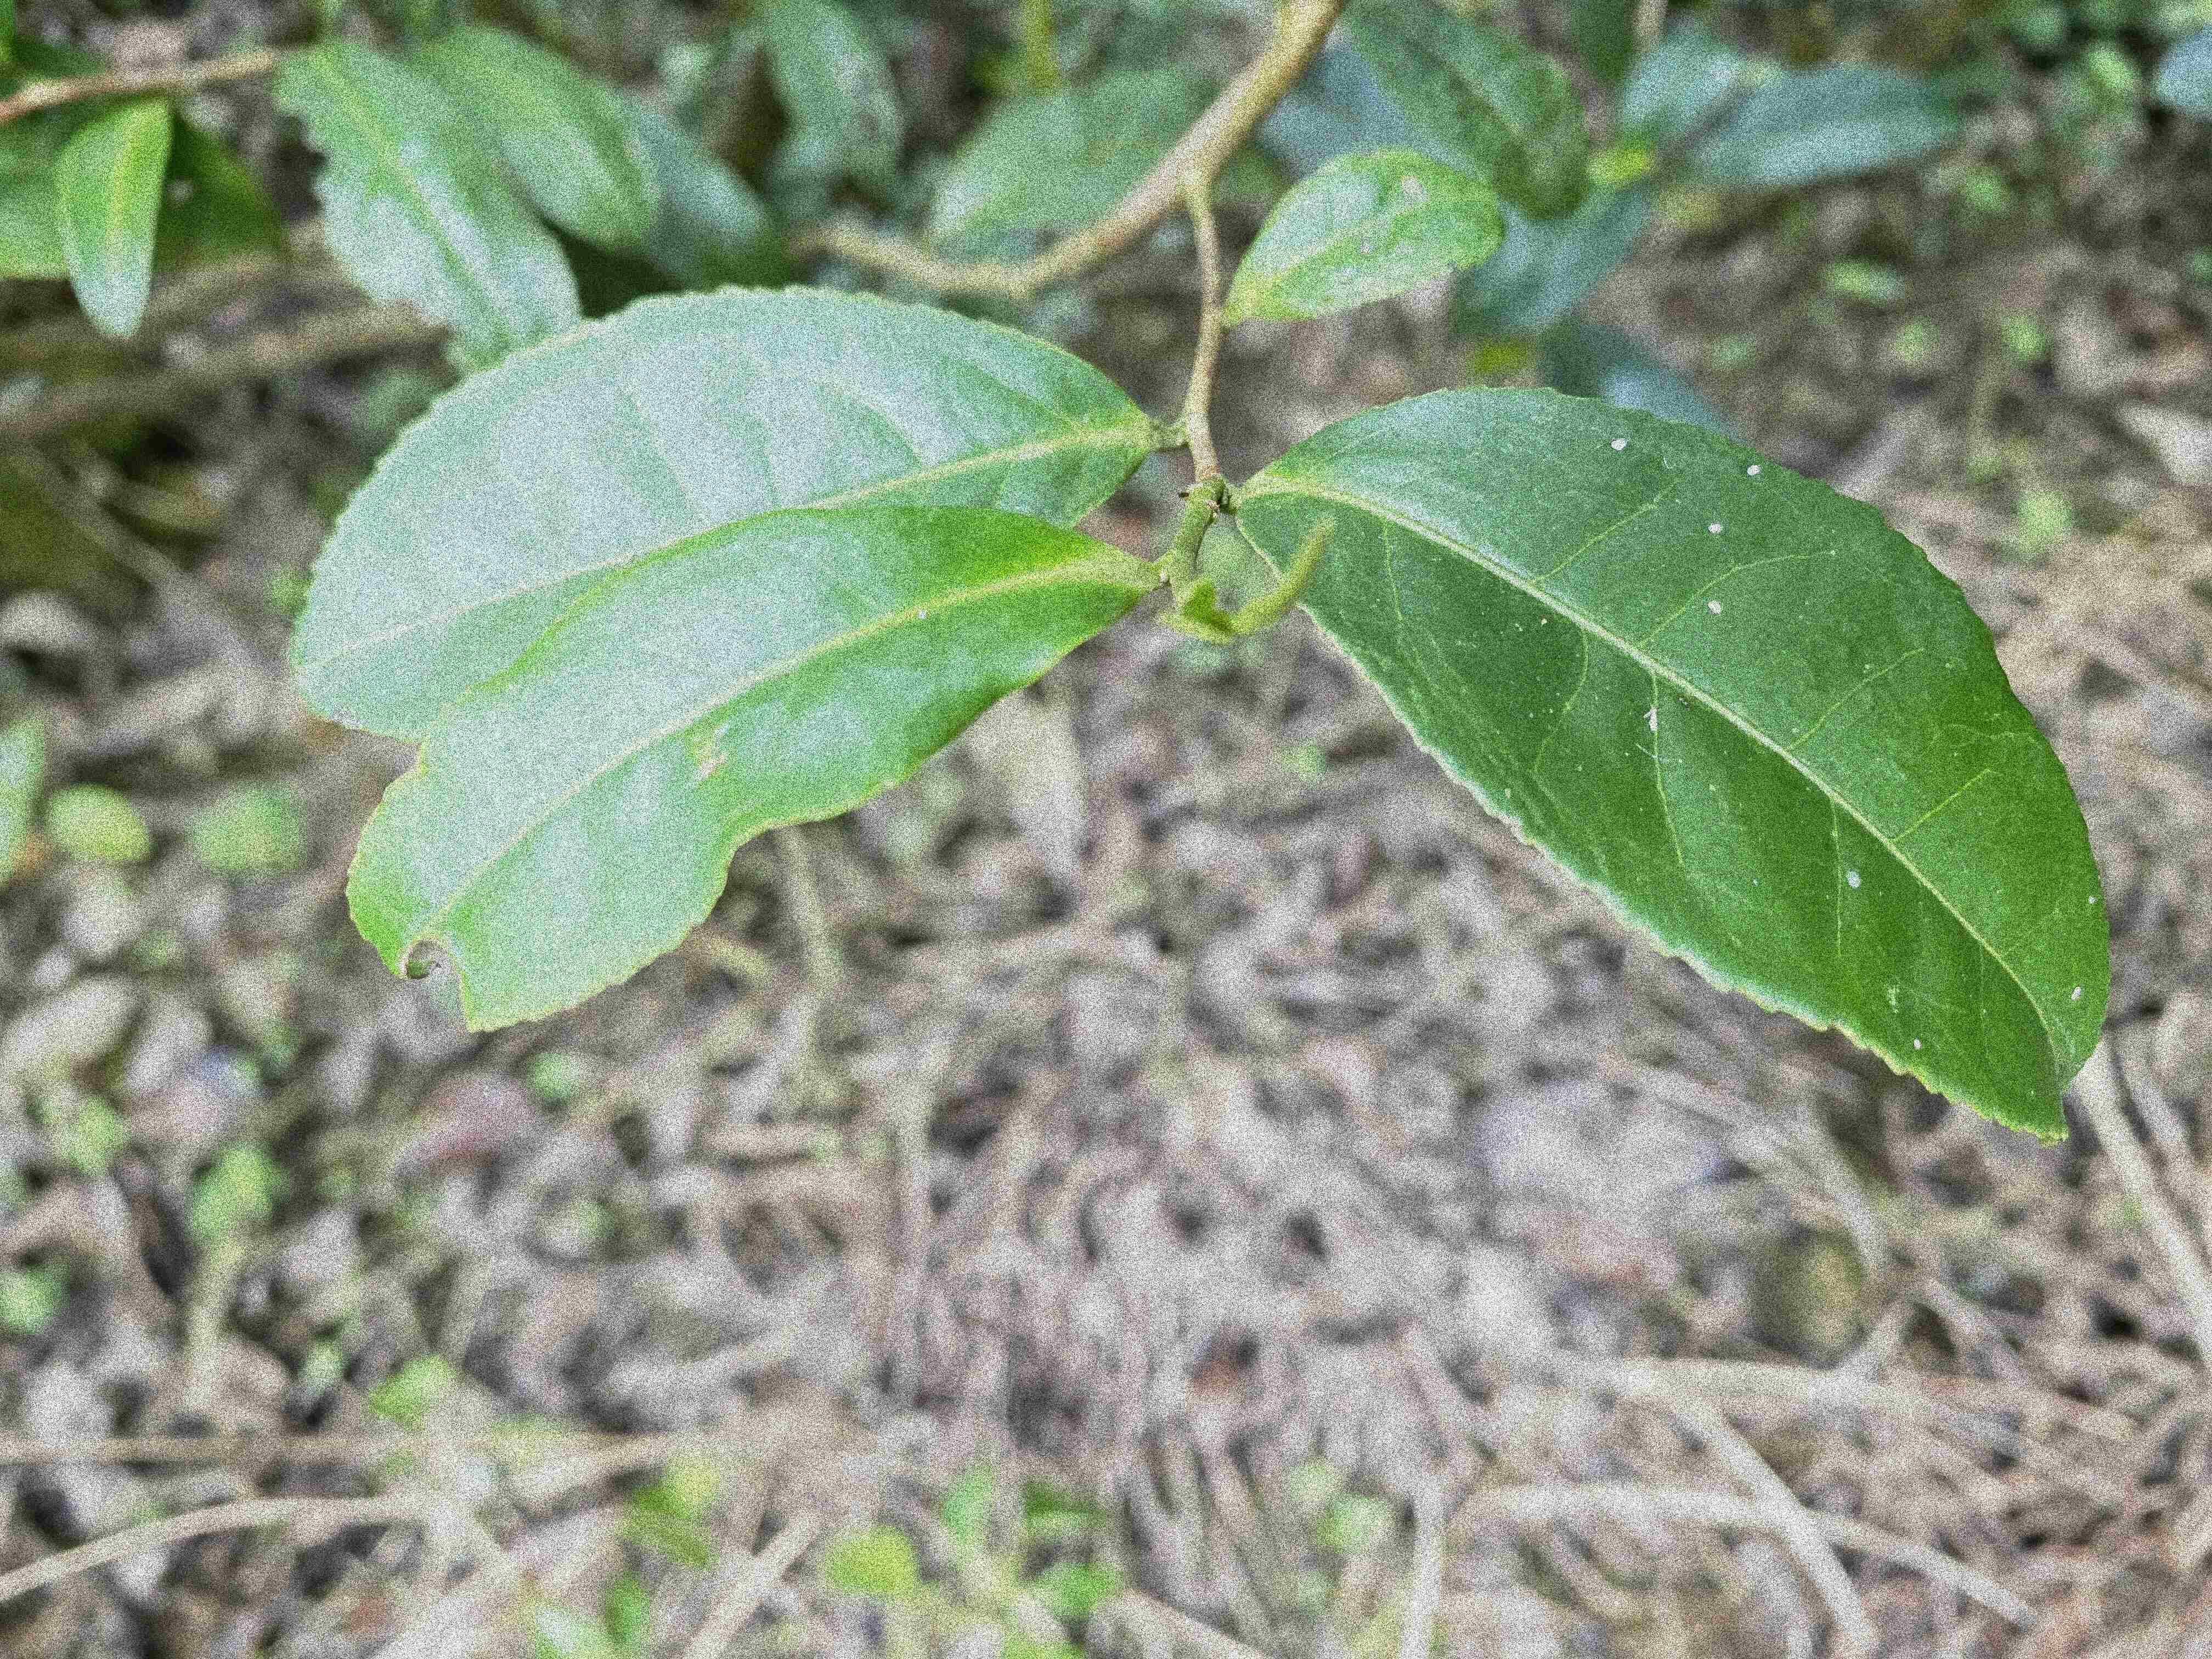chihuo_low: (343, 507, 1160, 1035)
healthy: (289, 282, 1144, 742)
